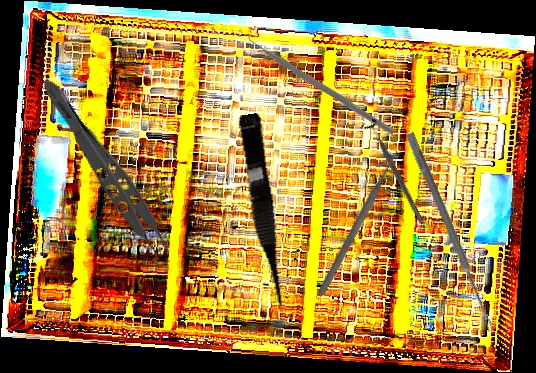Chopper: (246, 23, 395, 136)
Fixation Ring: (360, 117, 429, 226)
Micro Scissor: (233, 112, 291, 315)
Pusher: (316, 148, 402, 297)
Surgical Spoon: (404, 132, 497, 332)
Tissue Forceps: (24, 73, 185, 274)
